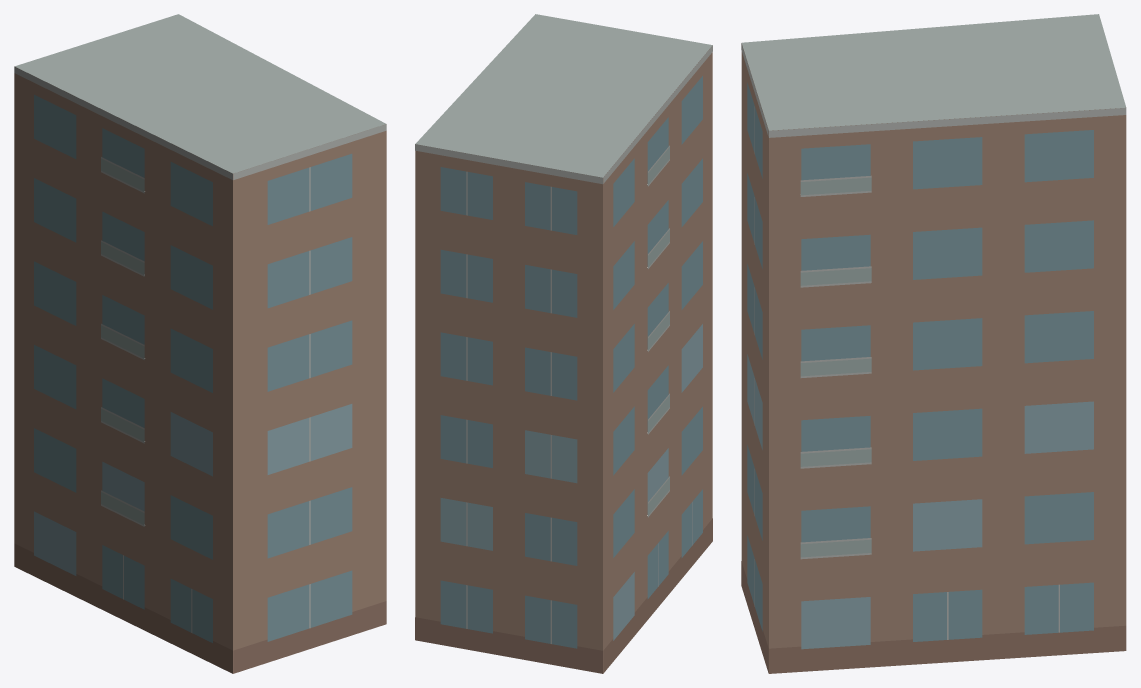
File: survey-upis-32908086.glb
3 views of the same model, side by side, from view 1: azimuth 30°, elevation 25°; view 2: azimuth 150°, elevation 25°; view 3: azimuth 270°, elevation 25° (orthographic). The views are drawn at different scales.
Parts seen in each view (by area): view 1: survey-upis-32908086.tmp; view 2: survey-upis-32908086.tmp; view 3: survey-upis-32908086.tmp.
Boxes of the visible parts, x1,y1,x2,y2 form: survey-upis-32908086.tmp: (14, 14, 386, 673); survey-upis-32908086.tmp: (415, 14, 712, 673); survey-upis-32908086.tmp: (741, 14, 1126, 673).
Bounding box in the file's own units: 8.44 × 18.3 × 11.76.
